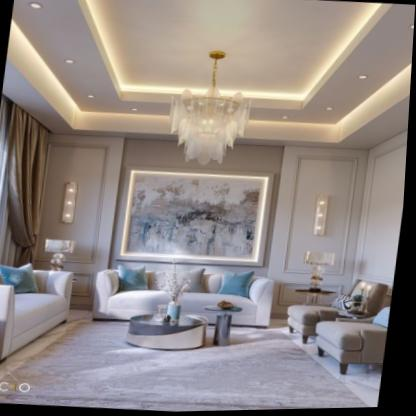Gypsum Board: (0, 0, 416, 170)
